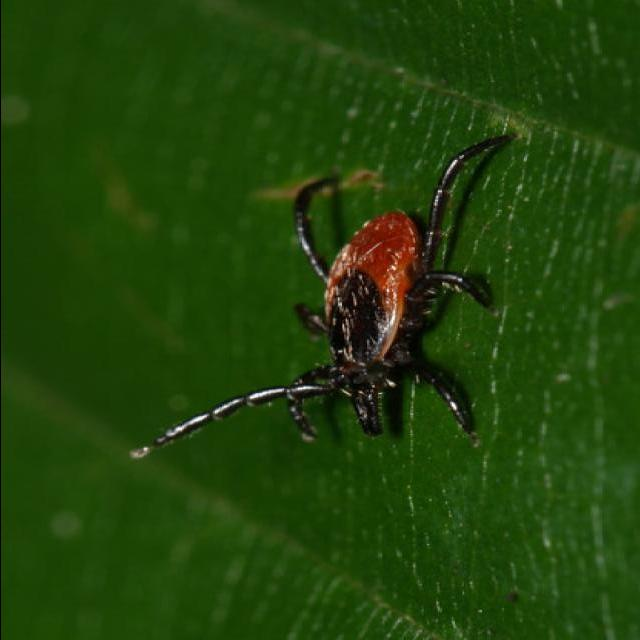Ixodes Ricinus-F: (131, 133, 514, 457)
